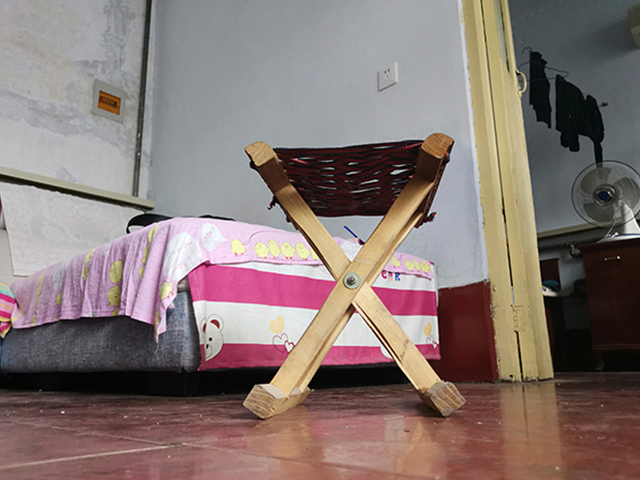cabinet: (576, 236, 640, 376)
sofa: (1, 216, 444, 398)
stool: (238, 131, 467, 421)
